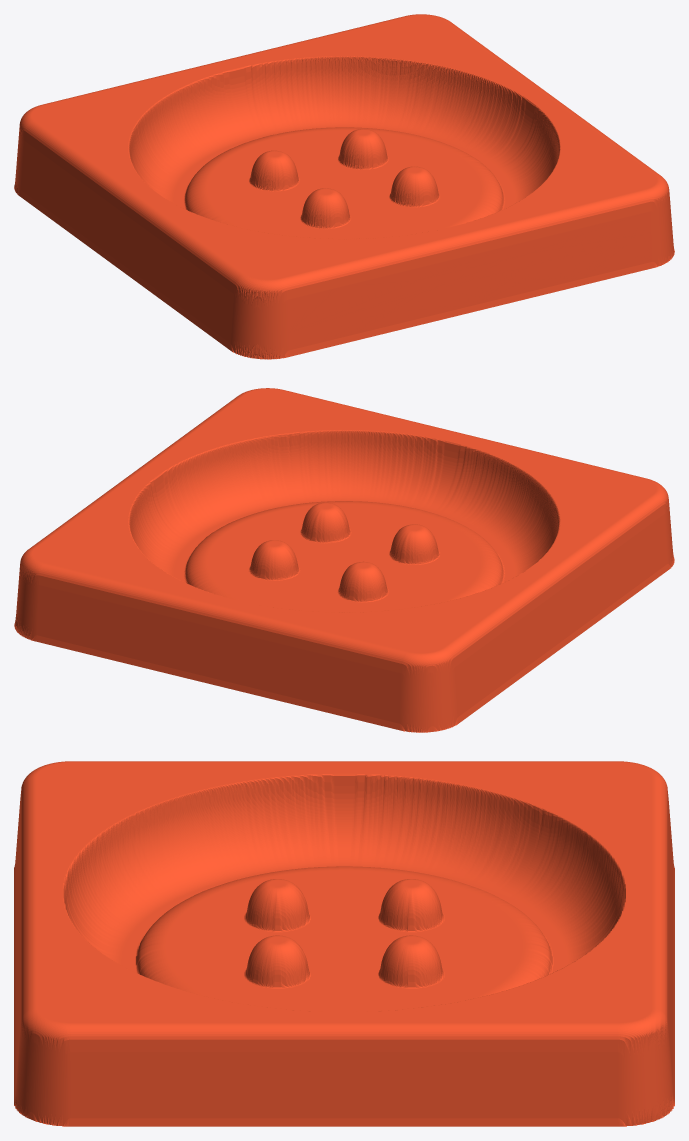
Rendered from mold.glb.
The picture shows the model from 3 angles, top to bottom: view 1: azimuth 30°, elevation 25°; view 2: azimuth 150°, elevation 25°; view 3: azimuth 270°, elevation 25°; orthographic projection. The views are drawn at different scales.
Visible parts, largest first — view 1: geometry_0; view 2: geometry_0; view 3: geometry_0.
Part boxes in pixels (<box>): geometry_0: <box>14,14,674,359</box>; geometry_0: <box>14,388,674,732</box>; geometry_0: <box>14,761,674,1126</box>.
Size of the model in its own units: 0.105 by 0.0165 by 0.105.
